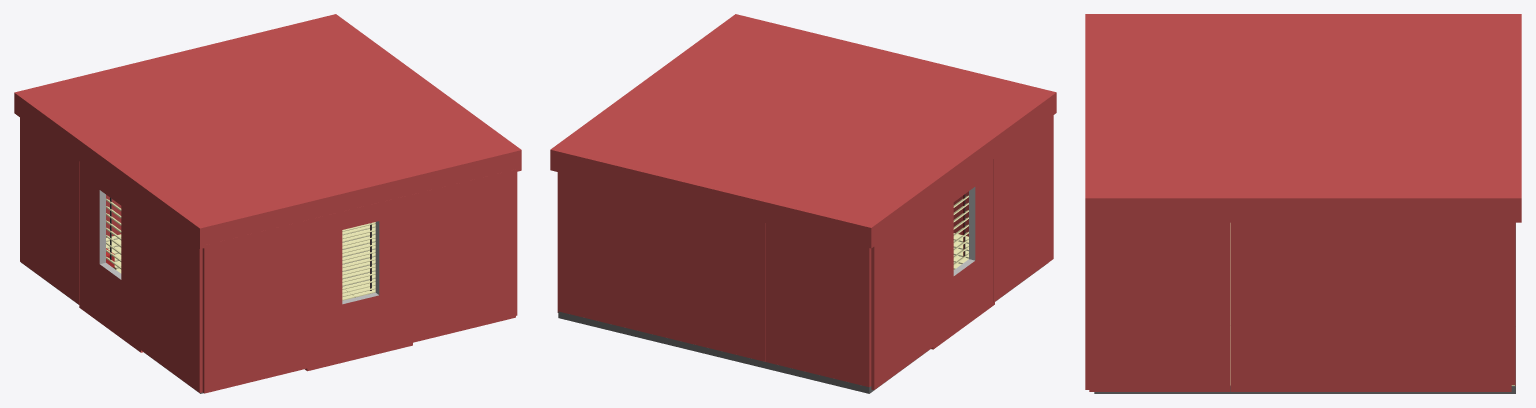
The model's file is LowPolyWallWindowed.fbx.
3 renders of one model, left to right at view 1: azimuth 30°, elevation 25°; view 2: azimuth 150°, elevation 25°; view 3: azimuth 270°, elevation 25°, orthographic. The views are drawn at different scales.
Parts seen in each view (by area): view 1: Cube.049, Cube.001, Cube.038, Cube.000, Cube.042, Cube.045, Cube.043, Cube.013, Cube.044, Cube.036; view 2: Cube.049, Cube.039, Cube.041, Cube.040, Cube.045, Cube.042, Cube.043, Cube.035, Cube.032, Cube.026, Cube.036; view 3: Cube.049, Cube.046, Cube.047, Cube.048, Cube.038, Cube.041.
Boxes of the visible parts, left/top/right/bottom form: Cube.049: left=14, top=14, right=521, bottom=248; Cube.001: left=202, top=220, right=307, bottom=393; Cube.038: left=413, top=169, right=515, bottom=342; Cube.000: left=305, top=194, right=412, bottom=371; Cube.042: left=139, top=205, right=202, bottom=392; Cube.045: left=20, top=117, right=79, bottom=304; Cube.043: left=79, top=161, right=143, bottom=352; Cube.013: left=342, top=227, right=375, bottom=292; Cube.044: left=342, top=222, right=375, bottom=296; Cube.036: left=106, top=197, right=121, bottom=269; Cube.049: left=550, top=14, right=1056, bottom=248; Cube.039: left=766, top=223, right=871, bottom=387; Cube.041: left=558, top=172, right=662, bottom=336; Cube.040: left=662, top=197, right=765, bottom=361; Cube.045: left=871, top=203, right=933, bottom=389; Cube.042: left=993, top=115, right=1053, bottom=302; Cube.043: left=931, top=159, right=994, bottom=349; Cube.035: left=766, top=350, right=928, bottom=393; Cube.032: left=662, top=337, right=765, bottom=368; Cube.026: left=558, top=311, right=661, bottom=343; Cube.036: left=953, top=194, right=968, bottom=265; Cube.049: left=1085, top=14, right=1521, bottom=222; Cube.046: left=1089, top=222, right=1229, bottom=391; Cube.047: left=1230, top=222, right=1370, bottom=391; Cube.048: left=1371, top=222, right=1511, bottom=391; Cube.038: left=1085, top=222, right=1089, bottom=389; Cube.041: left=1511, top=222, right=1515, bottom=385.
Size of the model in its own units: 621 by 312 by 621.
15 materials, 13 textured.
